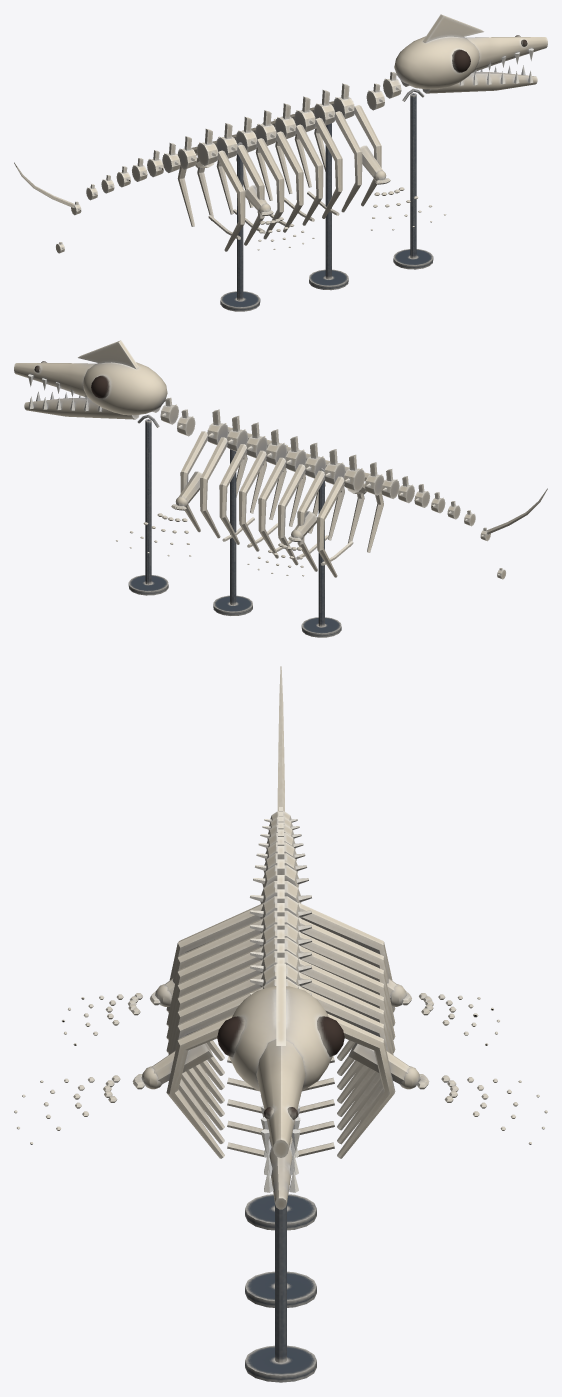
File: skeleton_apex.glb
The picture shows the model from 3 angles, top to bottom: view 1: azimuth 30°, elevation 25°; view 2: azimuth 150°, elevation 25°; view 3: azimuth 270°, elevation 25°; orthographic projection. The views are drawn at different scales.
Visible parts, largest first — view 1: Ribs, Skull, Mount, Back, Tail, Jaw, ForeFlipper, Neck, HindFlipper; view 2: Ribs, Skull, Mount, Back, Tail, Jaw, ForeFlipper, Neck, HindFlipper; view 3: Ribs, Skull, Mount, Back, ForeFlipper, Tail, HindFlipper, Jaw.
Part boxes in pixels (box(x1,y1,x2,y2)): Ribs: box(177, 101, 381, 251); Skull: box(394, 14, 547, 89); Mount: box(220, 88, 433, 311); Back: box(197, 83, 354, 165); Tail: box(14, 136, 196, 253); Jaw: box(422, 65, 537, 93); ForeFlipper: box(274, 118, 445, 230); Neck: box(366, 72, 409, 110); HindFlipper: box(147, 157, 314, 250); Ribs: box(180, 425, 383, 577); Skull: box(14, 340, 167, 415); Mount: box(128, 414, 341, 637); Back: box(207, 409, 364, 491); Tail: box(365, 462, 547, 579); Jaw: box(24, 391, 139, 419); ForeFlipper: box(116, 444, 299, 556); Neck: box(152, 397, 195, 436); HindFlipper: box(247, 483, 414, 576); Ribs: box(166, 902, 395, 1158); Skull: box(217, 963, 344, 1157); Mount: box(245, 1194, 316, 1382); Back: box(250, 859, 311, 995); ForeFlipper: box(14, 1043, 547, 1144); Tail: box(253, 666, 308, 887); HindFlipper: box(62, 978, 499, 1045); Jaw: box(264, 1136, 298, 1209).
Size of the model in its own units: 6.43 by 2.76 by 3.11.
Materials: 1 (1 with a texture image).
